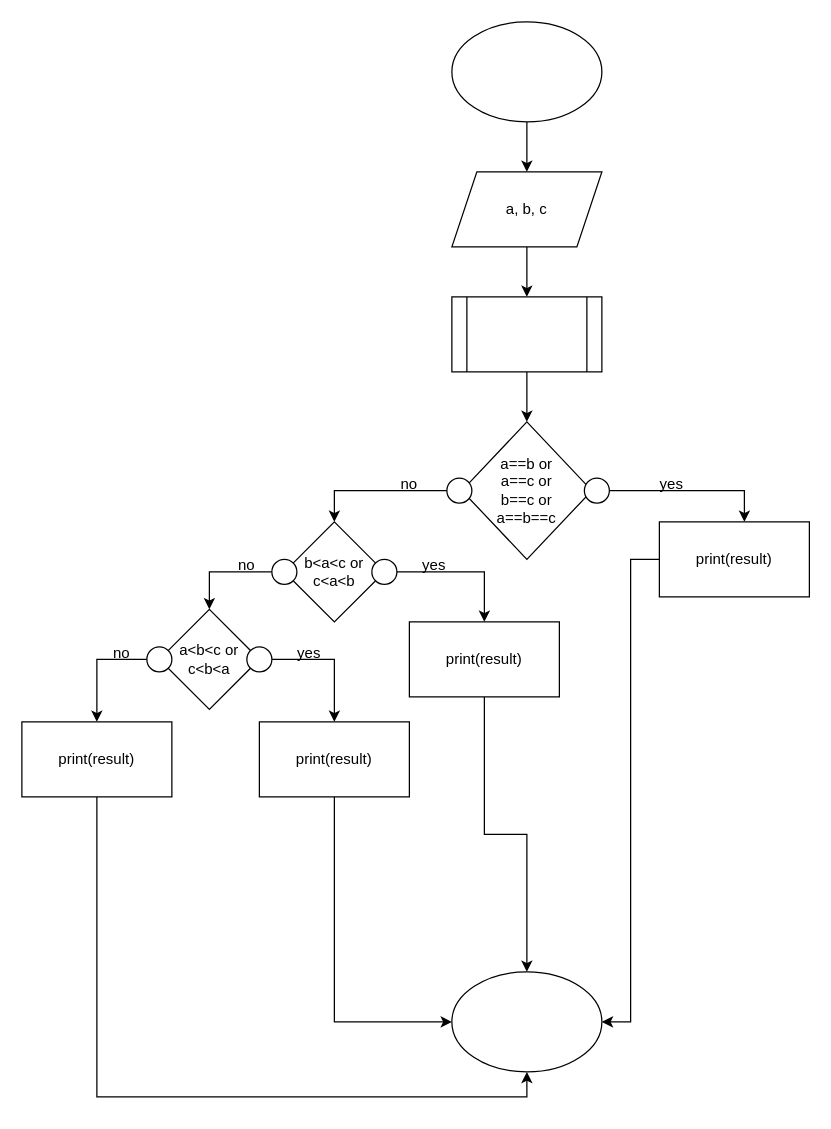
This 831x1129 diagram has some shape labels left out. The shapes that lost their labels are listed below. From the top down, each one's centre as x and y in pixels, then its label:
At (526,71): "Начало".
At (526,334): "mid_num( a, b, c)".
At (526,1021): "Конец".
